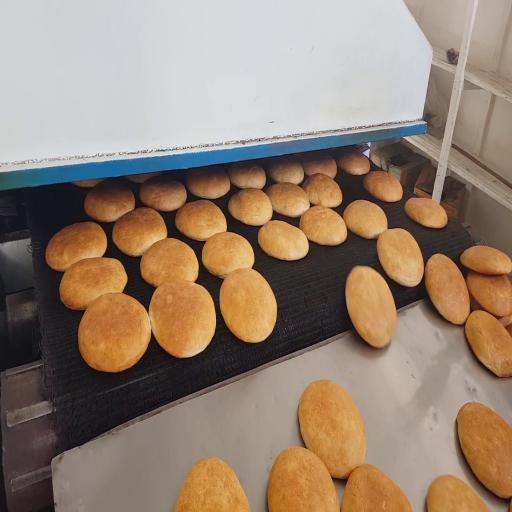bread: (299, 380, 365, 479), (78, 293, 151, 372), (457, 403, 511, 498), (149, 280, 215, 357), (268, 447, 339, 511), (220, 268, 277, 342), (346, 266, 397, 347), (175, 458, 249, 511), (60, 258, 127, 310), (341, 465, 412, 511), (425, 254, 469, 324), (465, 311, 511, 377), (46, 222, 107, 271), (140, 238, 198, 287), (377, 228, 424, 287), (112, 208, 167, 256), (202, 232, 254, 278), (84, 180, 135, 222), (427, 476, 488, 511), (175, 200, 226, 241), (258, 220, 308, 260), (467, 271, 511, 316), (300, 206, 347, 246), (140, 174, 186, 211), (344, 200, 387, 239), (228, 188, 272, 225), (267, 183, 309, 217), (187, 166, 230, 199), (461, 246, 511, 274), (303, 174, 342, 207), (405, 198, 447, 228), (364, 171, 402, 202), (228, 162, 266, 189), (267, 156, 303, 184), (337, 149, 370, 175), (302, 155, 337, 178), (125, 173, 159, 183), (73, 179, 104, 188), (470, 294, 484, 310), (506, 323, 511, 336)
